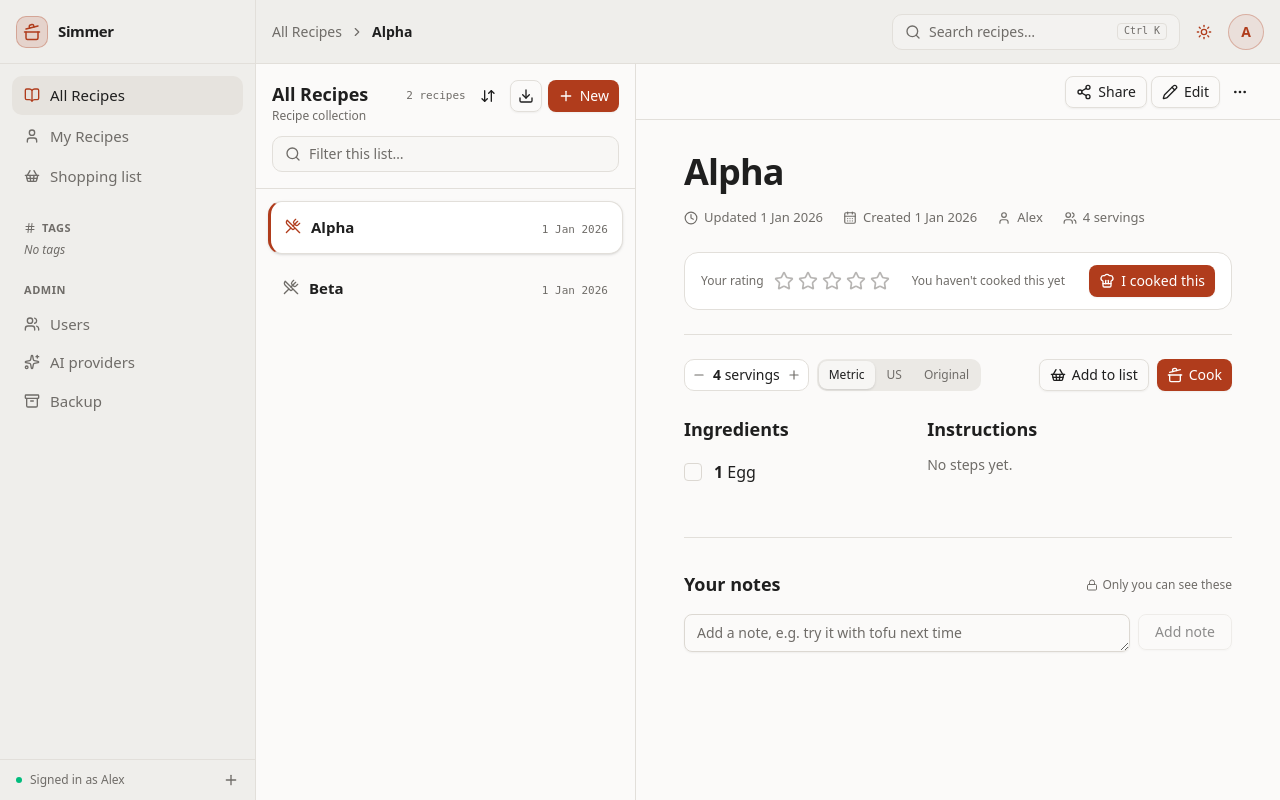
Test: recipe detail › starts afresh when switching to another recipe
Click the button named "More servings": (794, 374) [780,360,808,390]
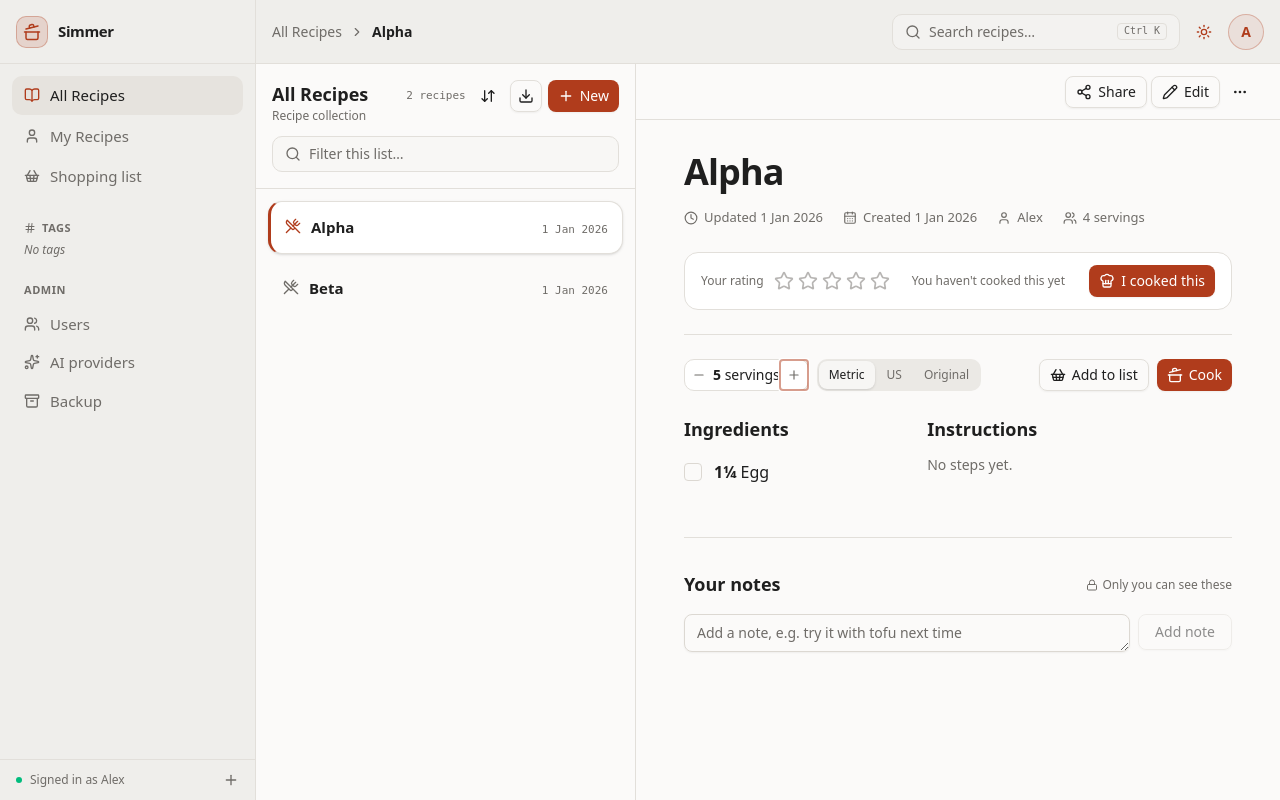
Click the button named "More servings": (794, 374) [780,360,808,390]
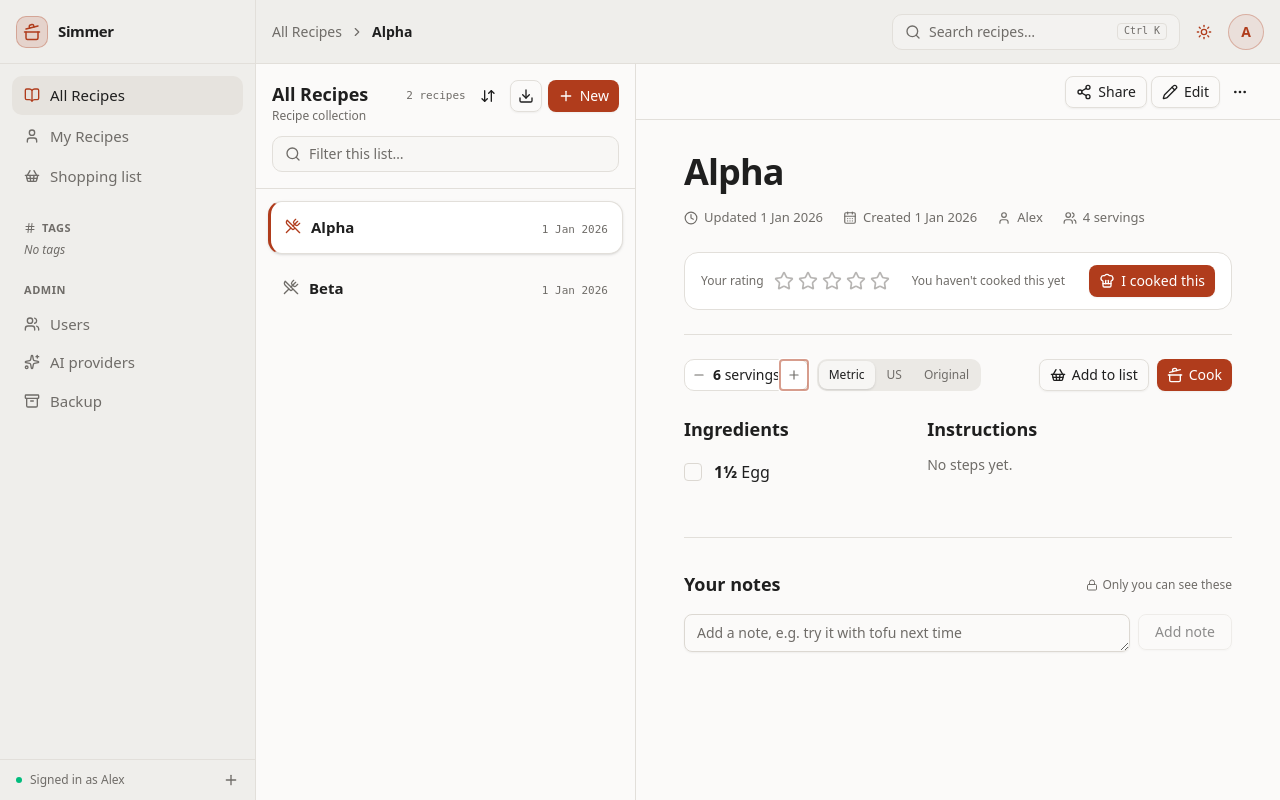
Click the checkbox labelled "1½ Egg": (693, 472) [684,462,702,480]
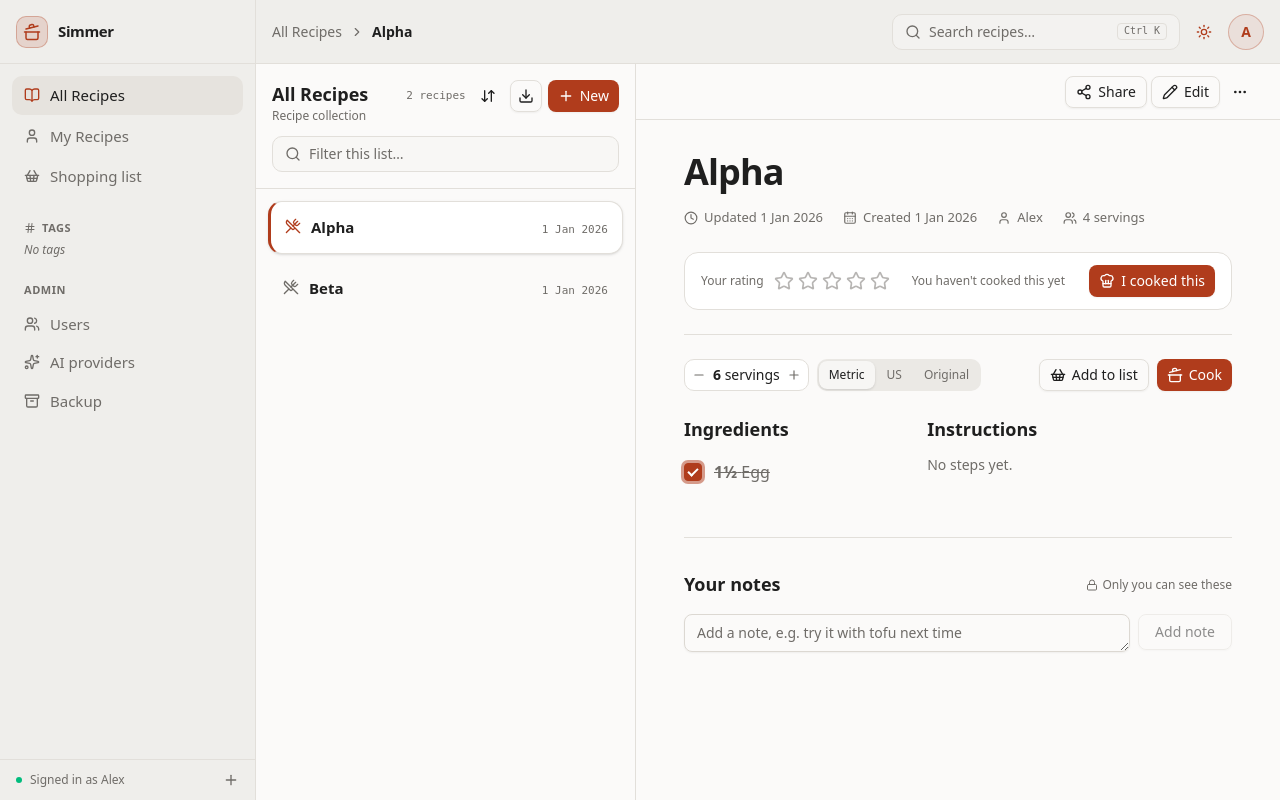
Expected: the checkbox labelled "1½ Egg" is checked, [684,462,702,480]
Click the link "Beta 1 Jan 2026": (326, 288) [283,278,608,298]
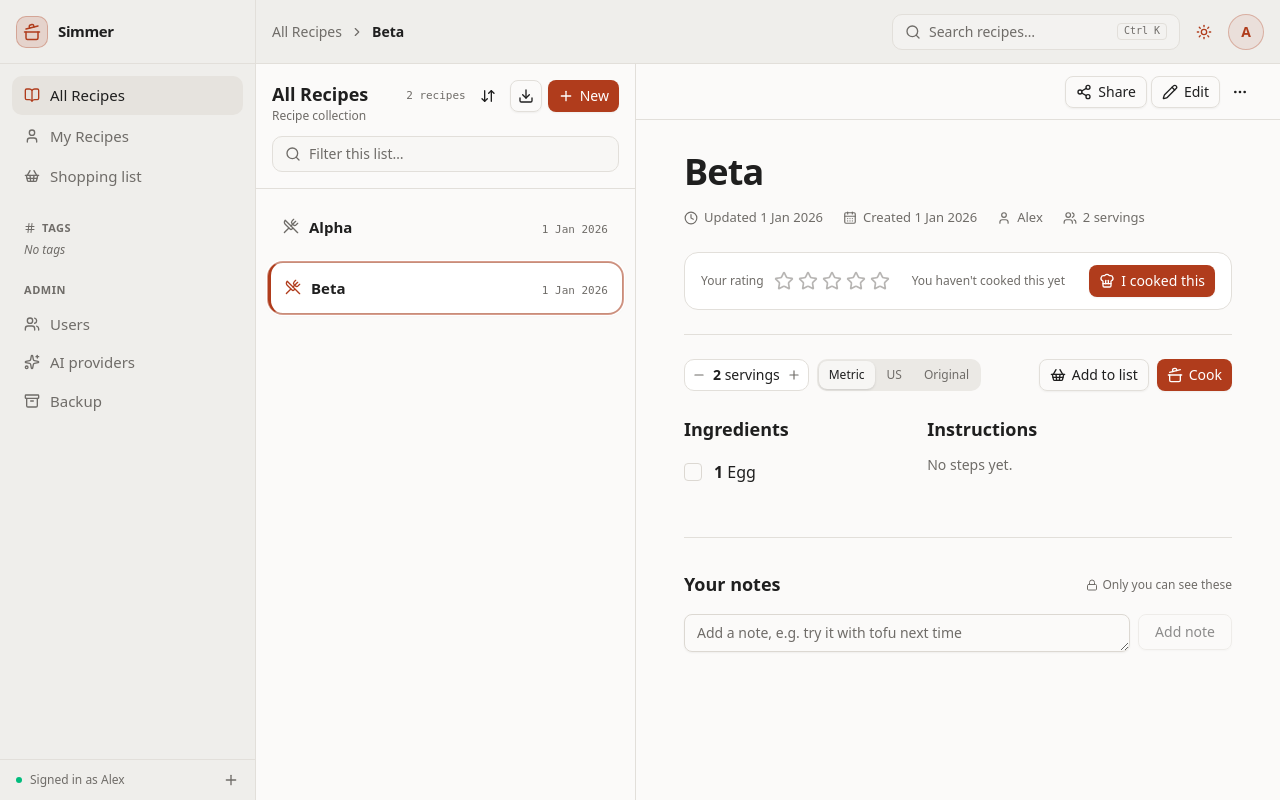
Expected: the heading "Beta" below "Edit" is shown, [684,147,763,196]
Expected: the checkbox labelled "1 Egg" is not checked, [684,462,702,480]
